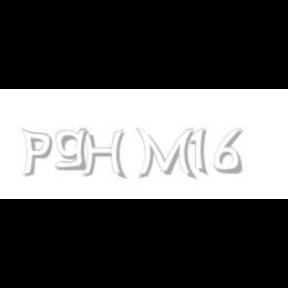1: (186, 128, 208, 176)
6: (214, 128, 242, 176)
H: (80, 128, 126, 180)
M: (135, 128, 194, 180)
P: (21, 128, 53, 178)
g: (54, 128, 92, 171)
